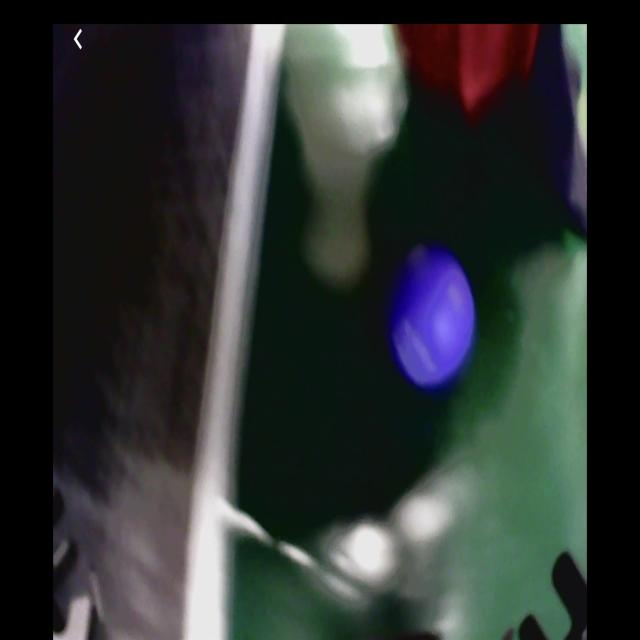ball: (388, 243, 474, 388)
